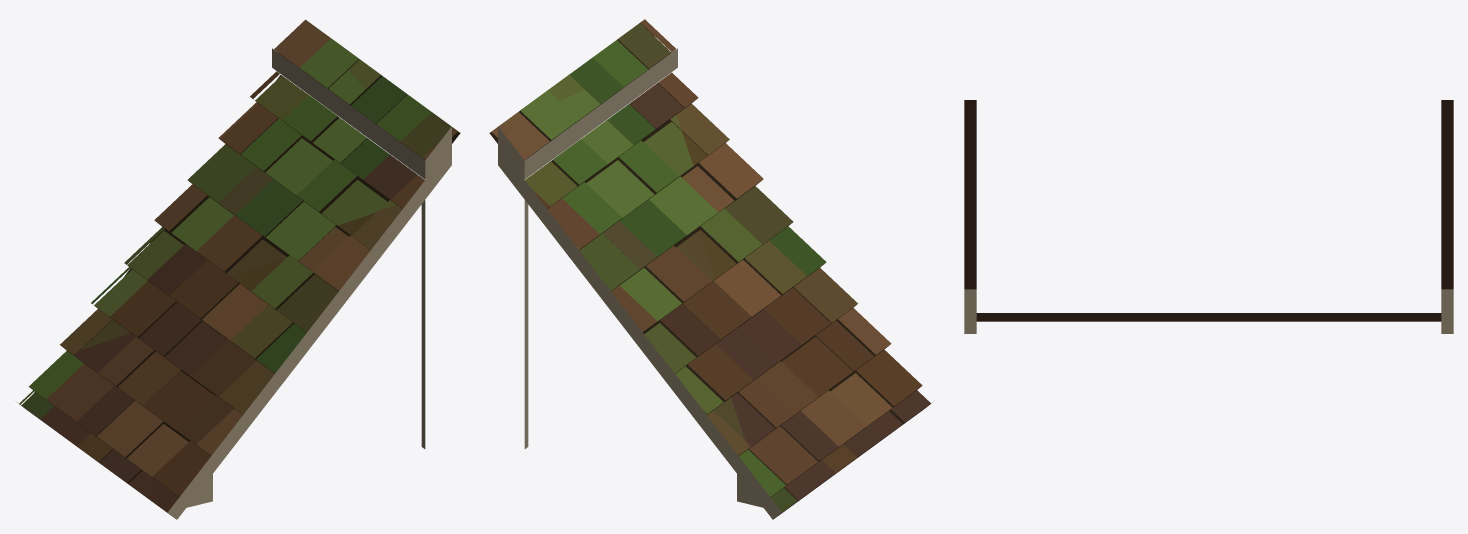
File: roof-high-mossy.glb
The picture shows the model from 3 angles, left to right: view 1: azimuth 30°, elevation 25°; view 2: azimuth 150°, elevation 25°; view 3: azimuth 270°, elevation 25°; orthographic projection. The views are drawn at different scales.
Parts seen in each view (by area): view 1: roof-high-mossy; view 2: roof-high-mossy; view 3: roof-high-mossy.
Boxes of the visible parts, box(x1,y1,x2,y2) form: roof-high-mossy: box(18, 19, 460, 519); roof-high-mossy: box(489, 19, 931, 519); roof-high-mossy: box(964, 100, 1453, 333).
Size of the model in its own units: 1.1 by 1.18 by 1.
